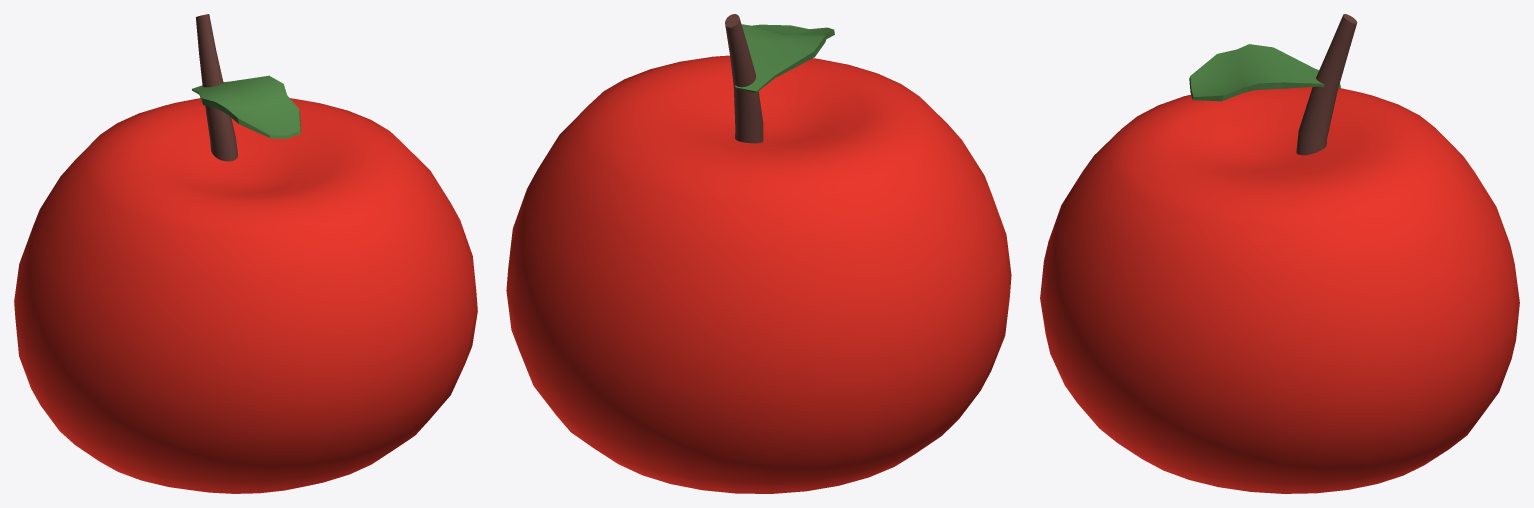
The model's file is apple.fbx.
3 renders of one model, left to right at view 1: azimuth 30°, elevation 25°; view 2: azimuth 150°, elevation 25°; view 3: azimuth 270°, elevation 25°, orthographic. The views are drawn at different scales.
Visible parts, largest first — view 1: Cylinder; view 2: Cylinder; view 3: Cylinder.
Boxes of the visible parts, left/top/right/bottom form: Cylinder: left=14, top=14, right=477, bottom=493; Cylinder: left=506, top=14, right=1011, bottom=493; Cylinder: left=1040, top=14, right=1519, bottom=493.
Bounding box in the file's own units: 200 × 196 × 200.
